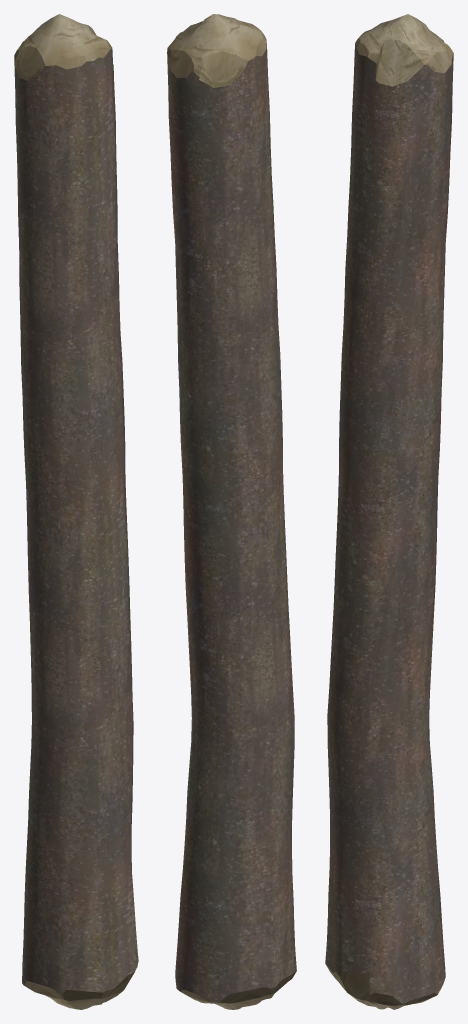
The picture shows the model from 3 angles, left to right: view 1: azimuth 90°, elevation 25°; view 2: azimuth 150°, elevation 25°; view 3: azimuth 330°, elevation 25°; orthographic projection.
Visible parts, largest first — view 1: SM_BM_Ash_Tree_02_half_bottom_LOD0; view 2: SM_BM_Ash_Tree_02_half_bottom_LOD0; view 3: SM_BM_Ash_Tree_02_half_bottom_LOD0.
Boxes of the visible parts, x1=… form: SM_BM_Ash_Tree_02_half_bottom_LOD0: x1=14, y1=14, x2=138, y2=1009; SM_BM_Ash_Tree_02_half_bottom_LOD0: x1=167, y1=14, x2=296, y2=1009; SM_BM_Ash_Tree_02_half_bottom_LOD0: x1=325, y1=14, x2=453, y2=1009.
Bounding box in the file's own units: 0.4642 × 4.24 × 0.4836.
1 material, 1 textured.
